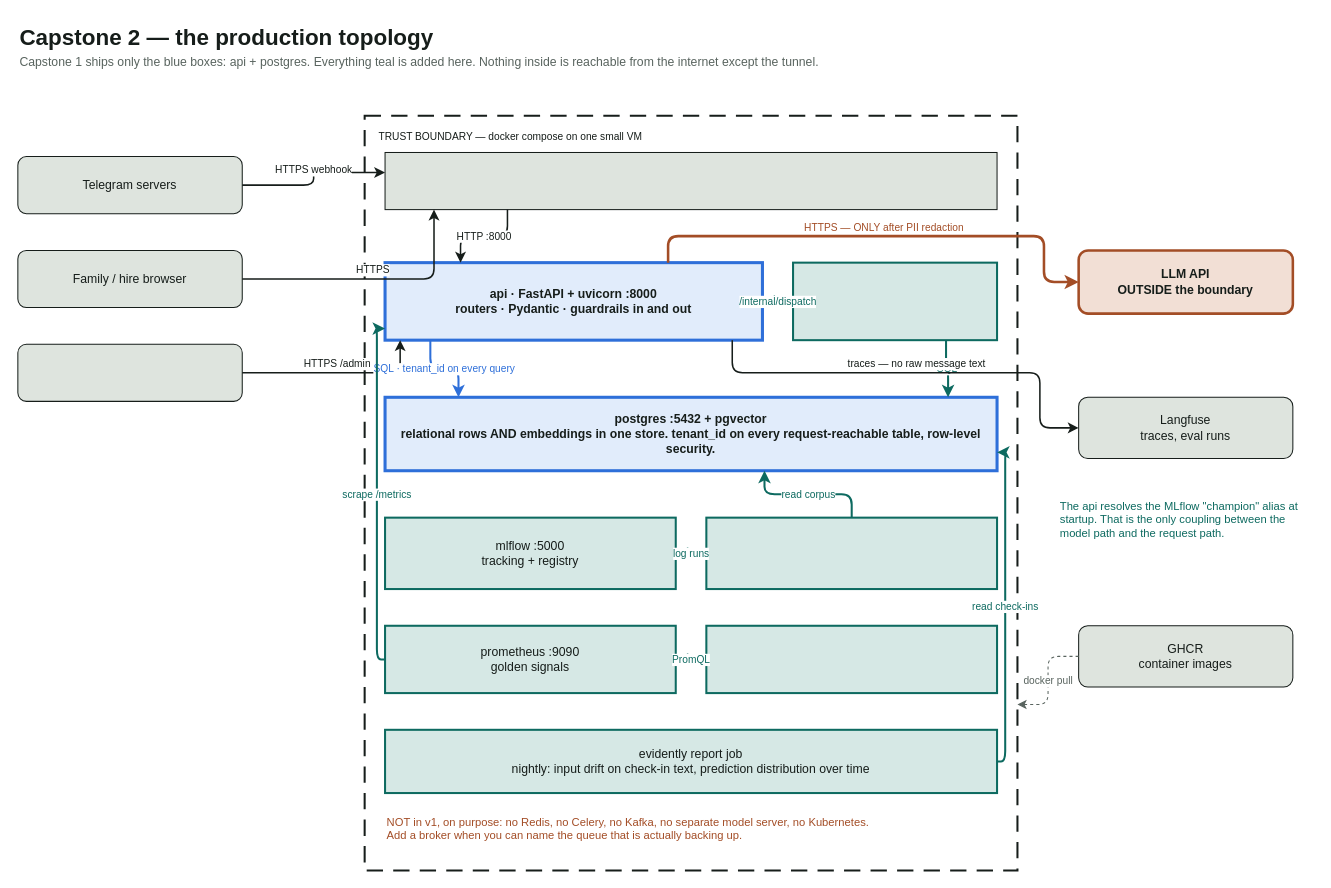
Image size: 1331x888. Some labels were removed from this diagram. Each missing label, with the box of its shape:
cloudflared tunnel Telegram only calls a public HTTPS endpoint: (384, 151, 997, 210)
grafana :3000 one dashboard, one alert: (705, 624, 998, 694)
Provider staff browser dashboard + consultant queue: (17, 343, 242, 401)
trainer DVC pull → fit → eval → log: (705, 516, 998, 590)
worker Prefect flows spine · ingestion · nightly: (792, 261, 998, 341)
